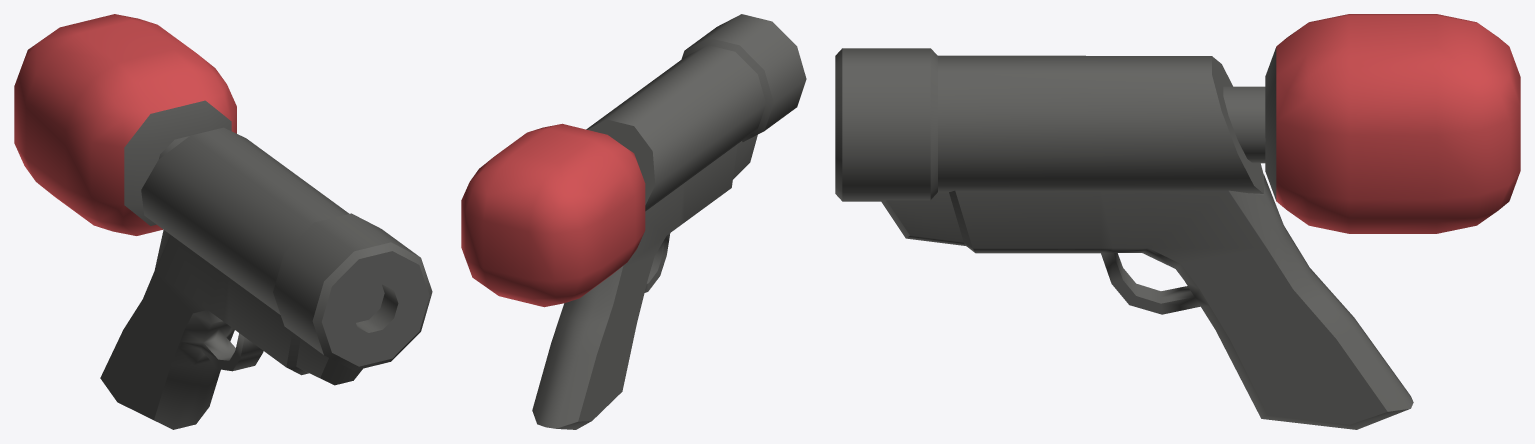
File: Pistol.fbx
3 renders of one model, left to right at view 1: azimuth 30°, elevation 25°; view 2: azimuth 150°, elevation 25°; view 3: azimuth 270°, elevation 25°, orthographic. The views are drawn at different scales.
Parts seen in each view (by area): view 1: Pistol_part.1; view 2: Pistol_part.1; view 3: Pistol_part.1.
Part boxes in pixels (<box>): Pistol_part.1: <box>14,14,432,429</box>; Pistol_part.1: <box>461,14,806,429</box>; Pistol_part.1: <box>835,14,1520,429</box>.
Size of the model in its own units: 23.81 by 50.17 by 79.26.
